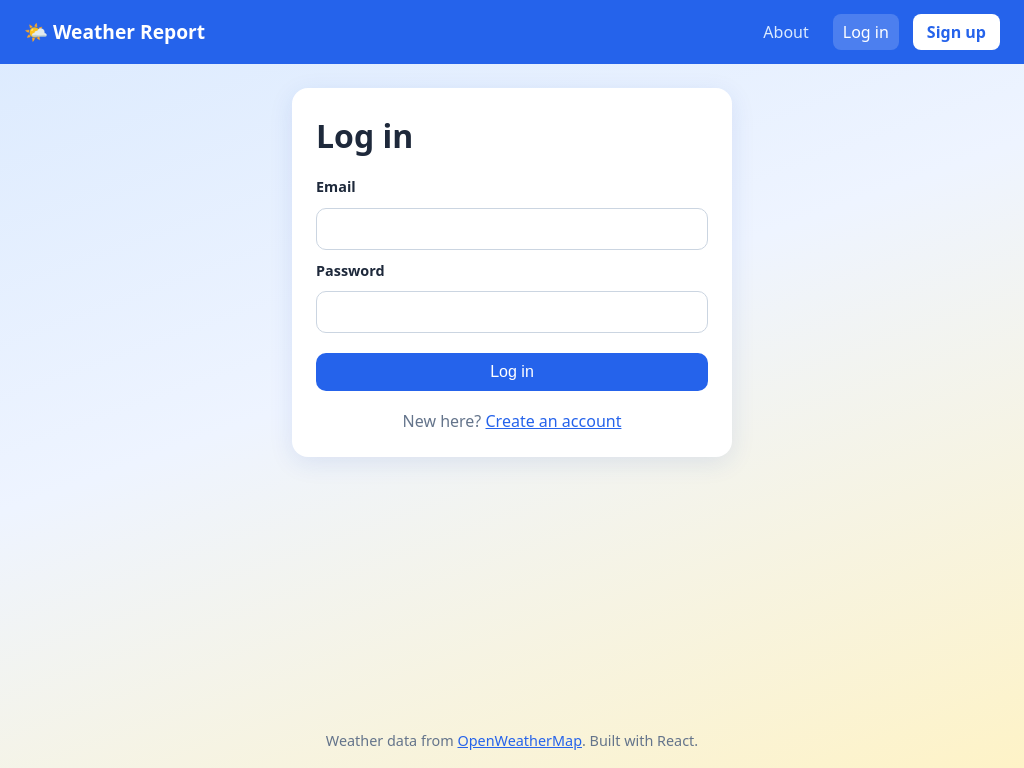
Test case: Weather Report app › asks for a city when the search box is empty
Click the link "Sign up" at (956, 32), box [913,14,1000,50]
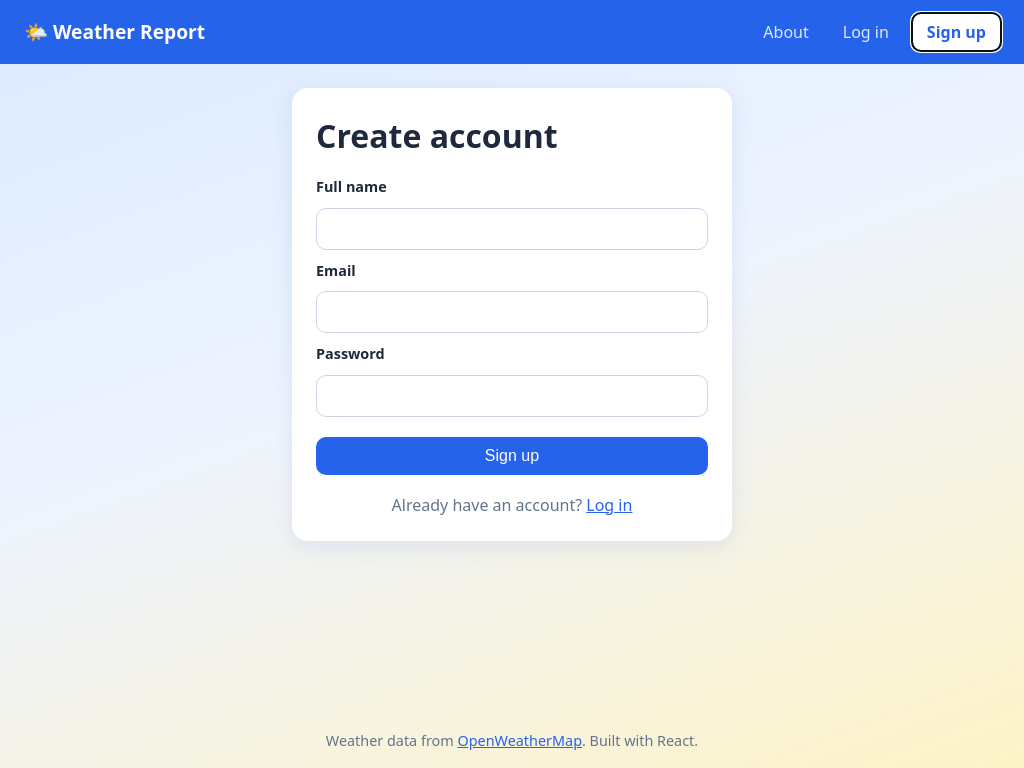
Type "Nivetha V" into the field labelled "Full name" at (512, 229), box [316,208,708,250]
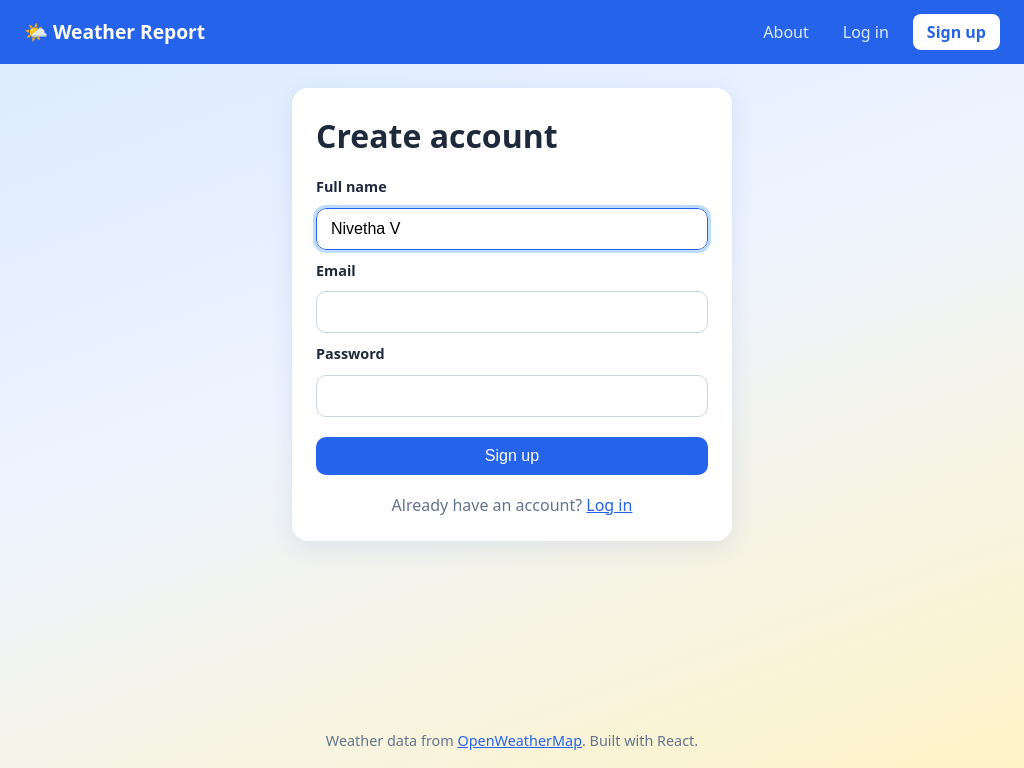
Type "nive@example.com" into the field labelled "Email" at (512, 312), box [316,291,708,333]
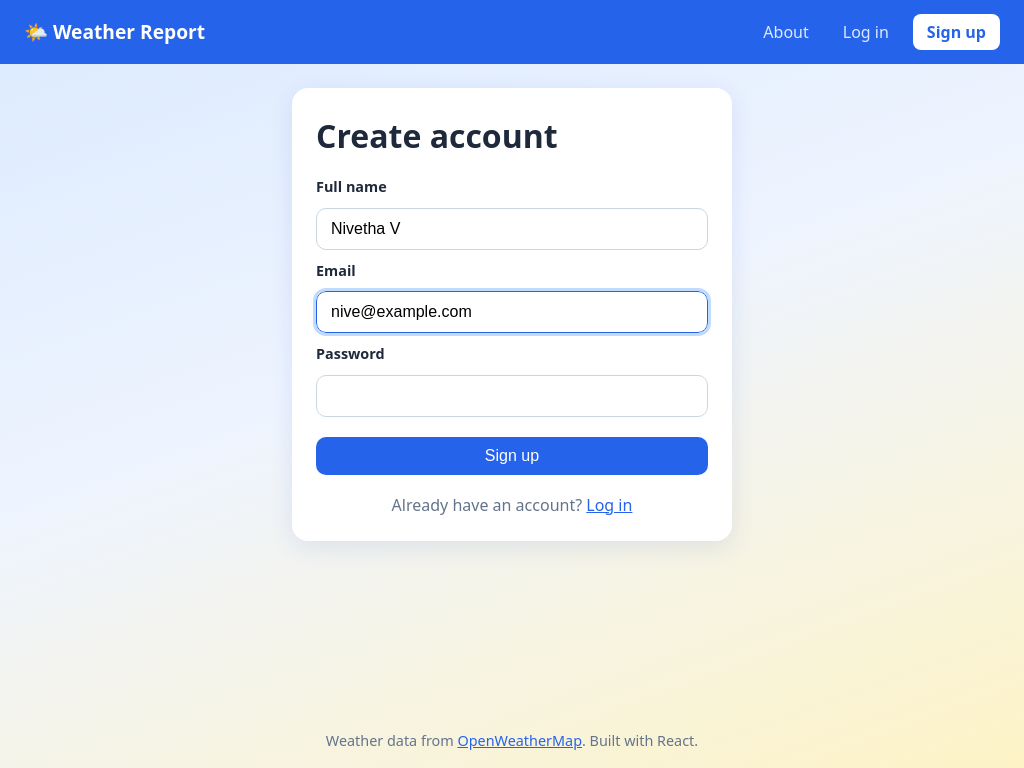
Type "secret123" into the password field labelled "Password" at (512, 396), box [316,375,708,417]
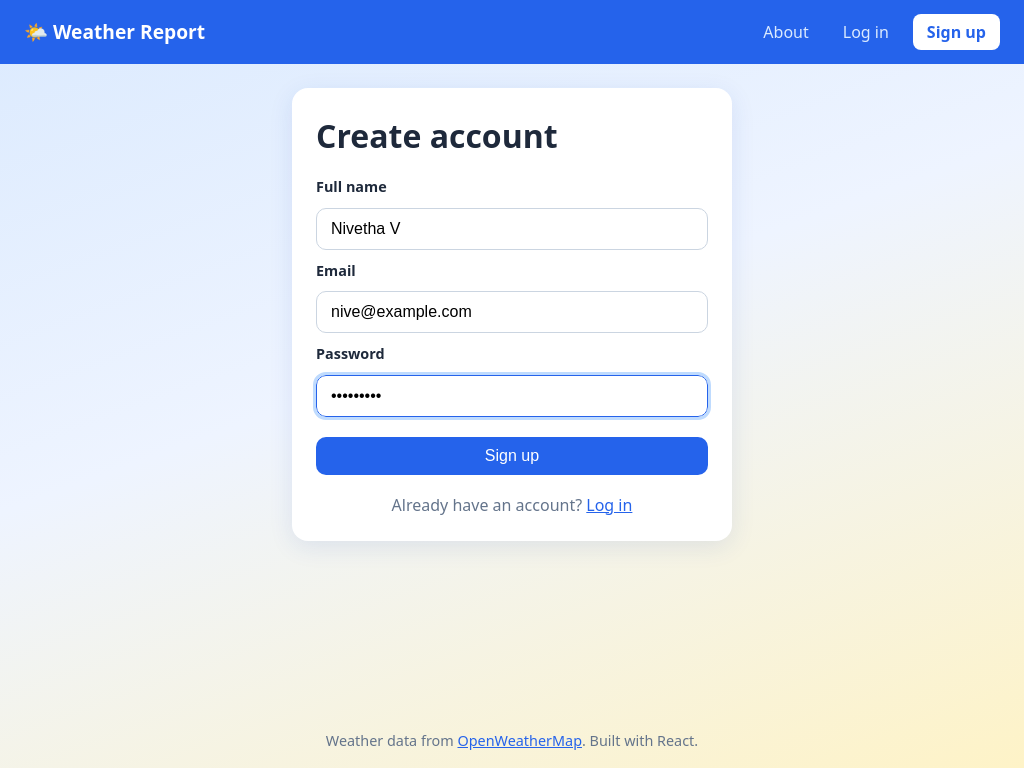
Click the button "Sign up" at (512, 456), box [316,437,708,475]
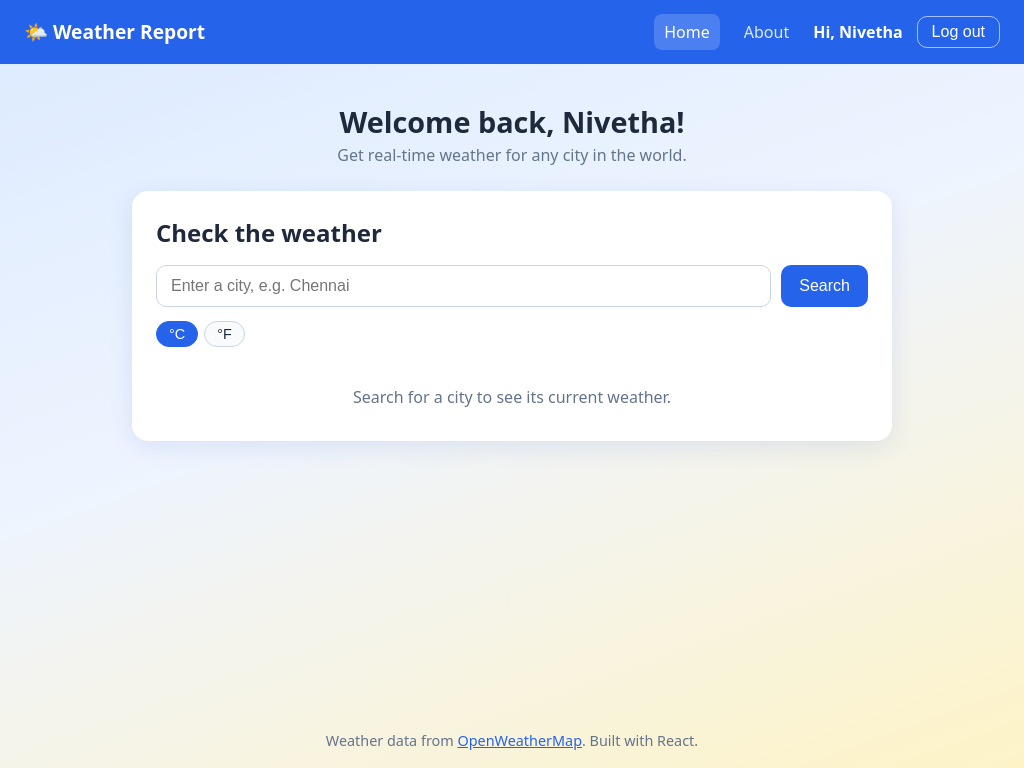
Click the button "Search" at (825, 286), box [781,265,868,307]
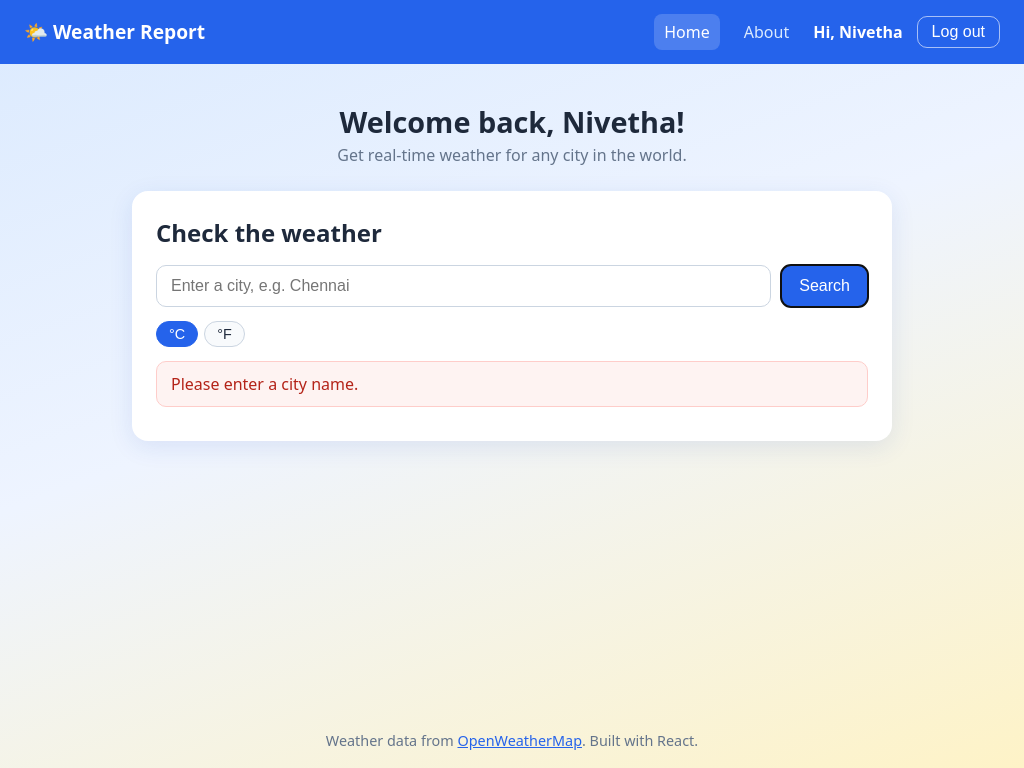
Check: the text "Please enter a city name." is shown, box [156,361,868,407]
